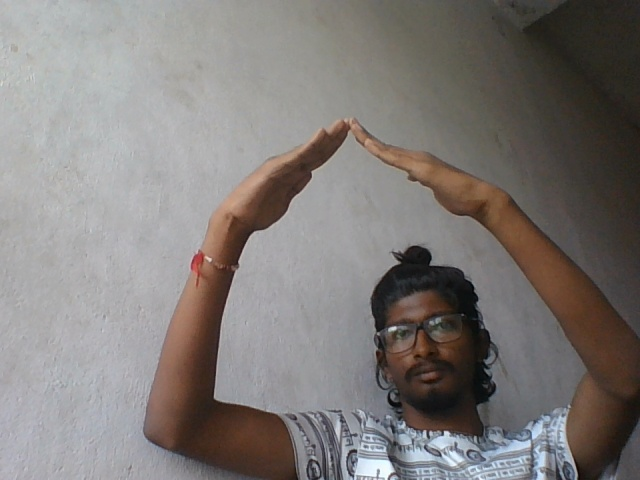Good: (184, 113, 548, 254)
